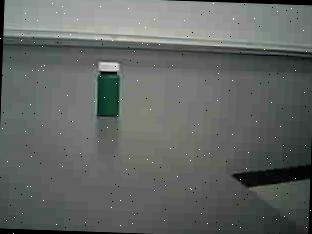Bottle C: (88, 58, 127, 120)
